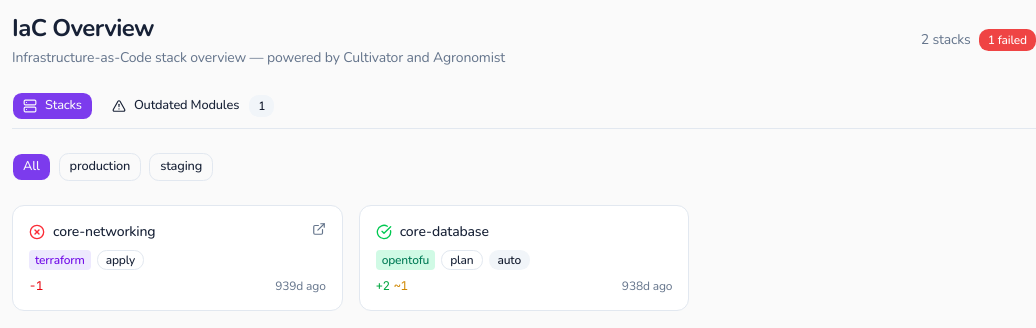
IacDashboardClient › switches to module drift view and shows drift table
Expected: the text "core-networking" is shown, [53,222,155,242]
Step 1. Click the button "Outdated Modules 1" → (193, 106), box [101,92,285,120]
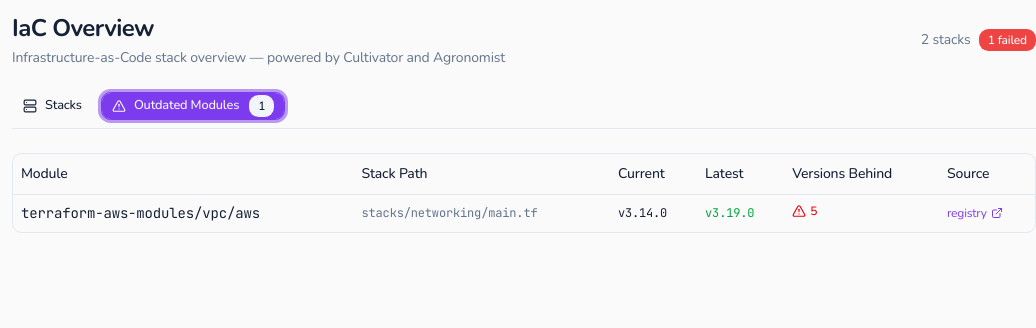
Expected: the text "terraform-aws-modules/vpc/aws" is shown, [13,194,354,232]
Expected: the text "v3.14.0" is shown, [610,194,697,232]
Expected: the text "v3.19.0" is shown, [697,194,784,232]
